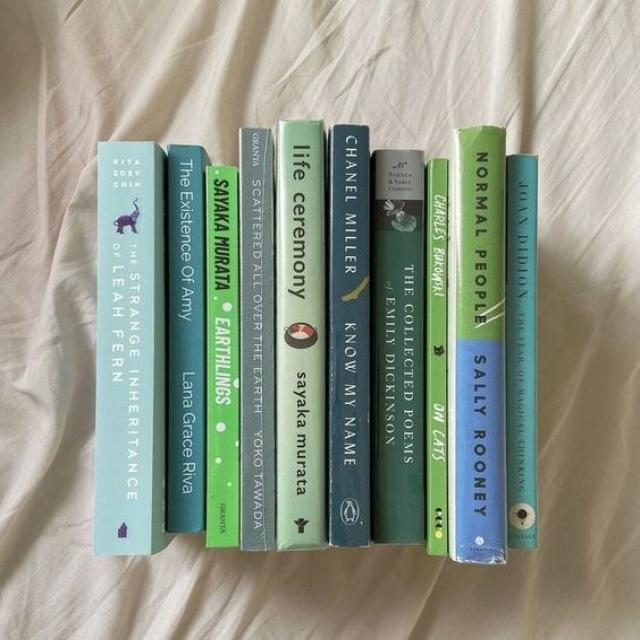book: (94, 141, 169, 555), (452, 128, 504, 560), (276, 121, 325, 550), (372, 146, 424, 540), (166, 146, 209, 531), (329, 127, 368, 546), (241, 129, 273, 550), (205, 165, 237, 547), (506, 152, 536, 548), (429, 159, 448, 557)
